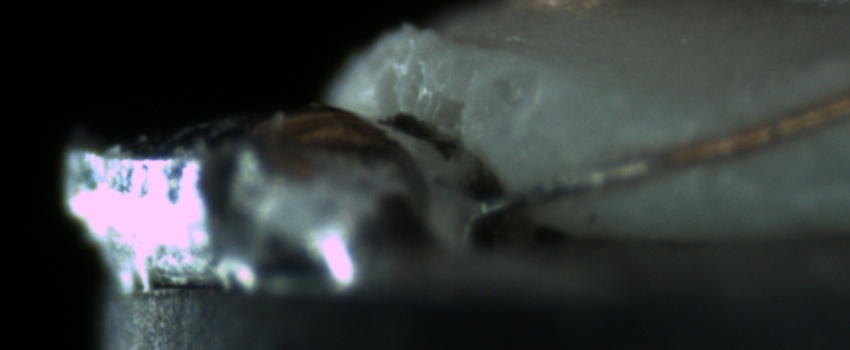TS: (481, 157, 663, 217)
TTCW: (471, 137, 727, 219)
